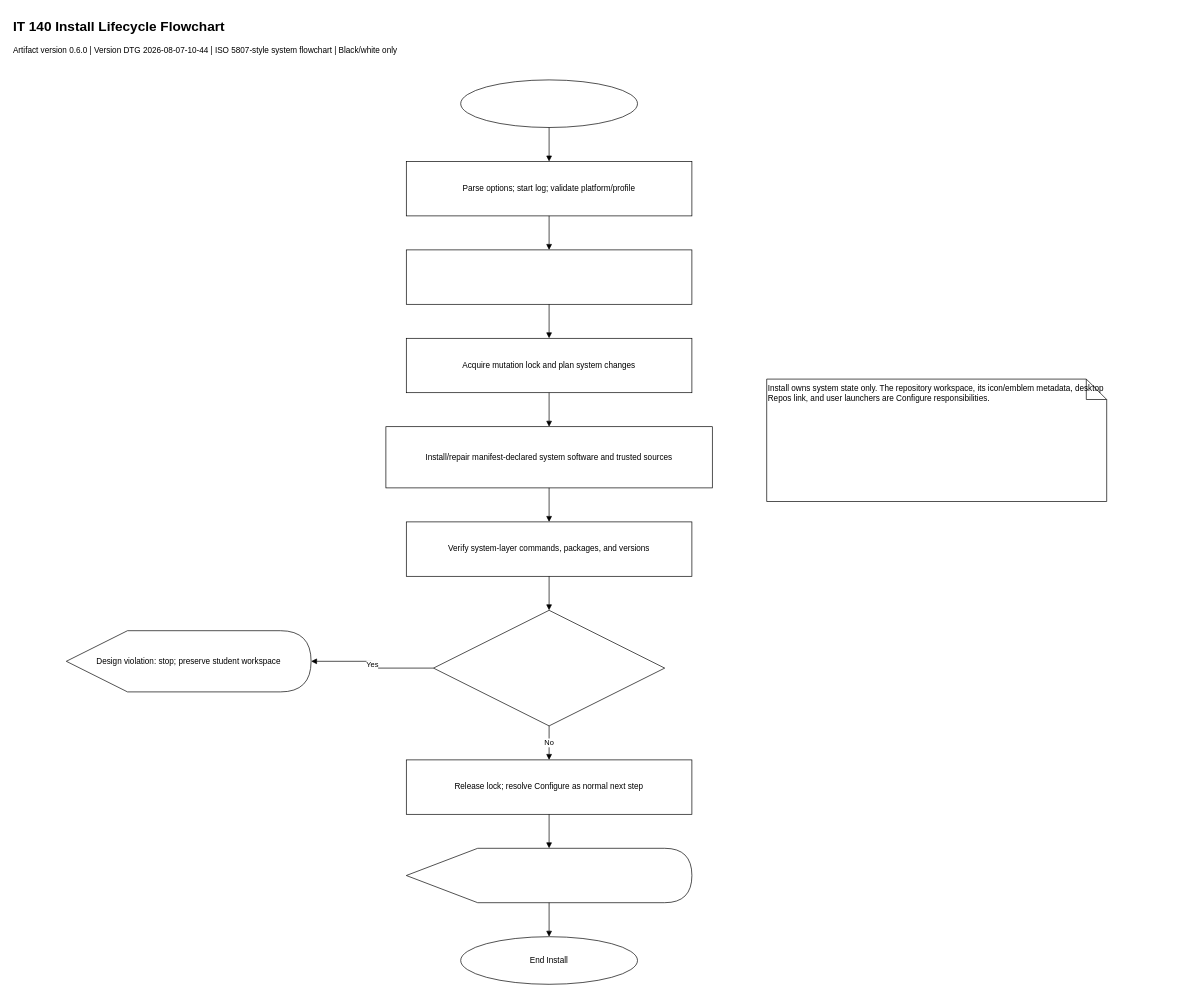
This 1179x996 diagram has some shape labels left out. Here are the shapes that lost their labels. From the top down, the centre of each, then its label:
At pixel 549 103: "Start Install".
At pixel 549 276: "Validate manifest and system prerequisites".
At pixel 549 668: "Any attempted change under ~/Repos?".
At pixel 549 875: "Display summary and log path".
